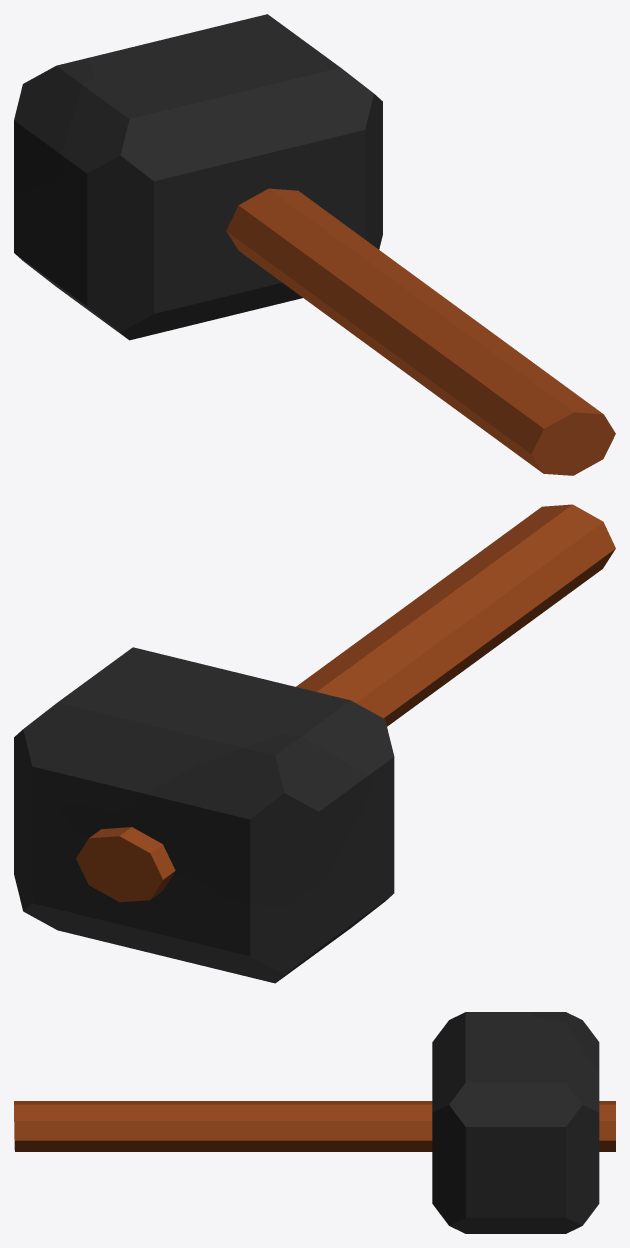
File: hammer in parts.FBX
3 views of the same model, one above another, from view 1: azimuth 30°, elevation 25°; view 2: azimuth 150°, elevation 25°; view 3: azimuth 270°, elevation 25° (orthographic). The views are drawn at different scales.
Visible parts, largest first — view 1: Plane044, Plane031, Plane022, Plane032, Plane037, Plane043, Plane038, Plane023, Plane028, Plane036, Plane024, Plane030; view 2: Plane023, Plane022, Plane044, Plane024, Plane027, Plane028, Plane042, Plane031, Plane043, Plane032, Plane026, Plane029; view 3: Plane044, Plane028, Plane043, Plane038, Plane022, Plane037, Plane029, Plane027, Plane032, Plane023, Plane042.
Part boxes in pixels (<box>): Plane044: <box>258,188,615,469</box>; Plane031: <box>48,179,237,340</box>; Plane022: <box>62,21,265,171</box>; Plane032: <box>66,83,266,219</box>; Plane037: <box>215,60,382,216</box>; Plane043: <box>226,189,611,475</box>; Plane038: <box>221,142,382,300</box>; Plane023: <box>14,58,94,194</box>; Plane028: <box>240,14,330,83</box>; Plane036: <box>168,217,289,330</box>; Plane024: <box>14,181,84,307</box>; Plane030: <box>56,172,214,240</box>; Plane023: <box>54,734,372,907</box>; Plane022: <box>30,667,382,811</box>; Plane044: <box>311,504,615,705</box>; Plane024: <box>76,814,360,983</box>; Plane027: <box>14,828,188,962</box>; Plane028: <box>14,655,204,835</box>; Plane042: <box>76,827,175,902</box>; Plane031: <box>309,794,394,958</box>; Plane043: <box>296,562,606,726</box>; Plane032: <box>205,666,394,795</box>; Plane026: <box>30,799,75,839</box>; Plane029: <box>14,802,30,865</box>; Plane044: <box>14,1101,432,1143</box>; Plane028: <box>469,1058,599,1169</box>; Plane043: <box>14,1101,432,1151</box>; Plane038: <box>432,1125,531,1233</box>; Plane022: <box>454,1012,599,1113</box>; Plane037: <box>432,1058,499,1160</box>; Plane029: <box>500,1147,595,1224</box>; Plane027: <box>532,1161,599,1233</box>; Plane032: <box>432,1018,468,1076</box>; Plane023: <box>531,1012,599,1075</box>; Plane042: <box>413,1101,615,1151</box>.
Size of the model in its own units: 8 by 5.72 by 20.6.
